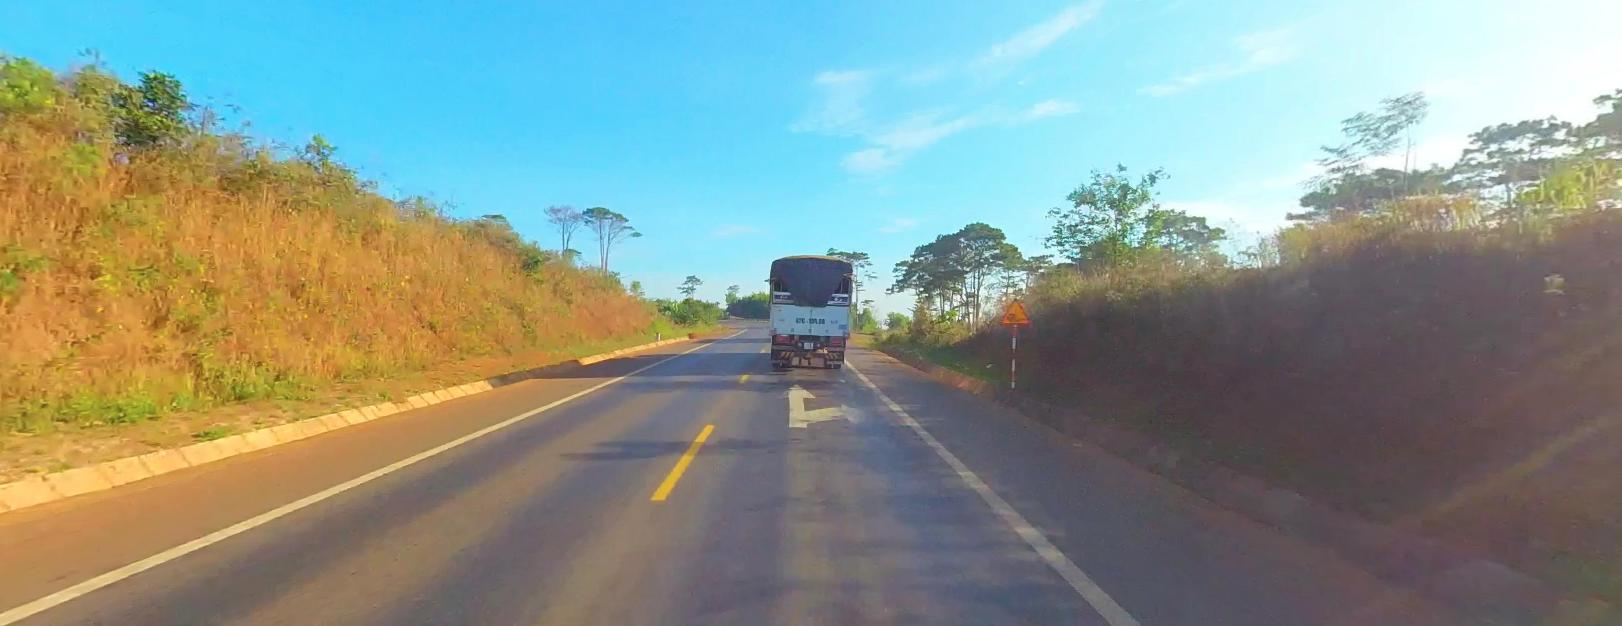Nguy hiem: (998, 296, 1030, 323)
